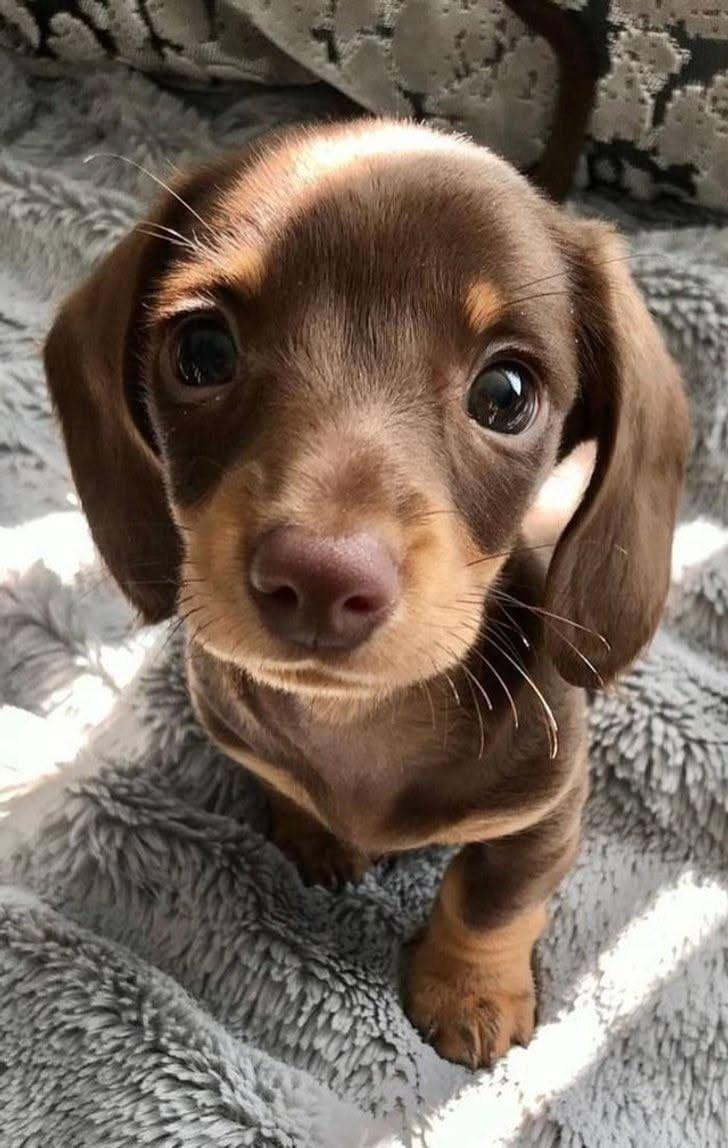puppy-dog: (40, 105, 704, 1076)
